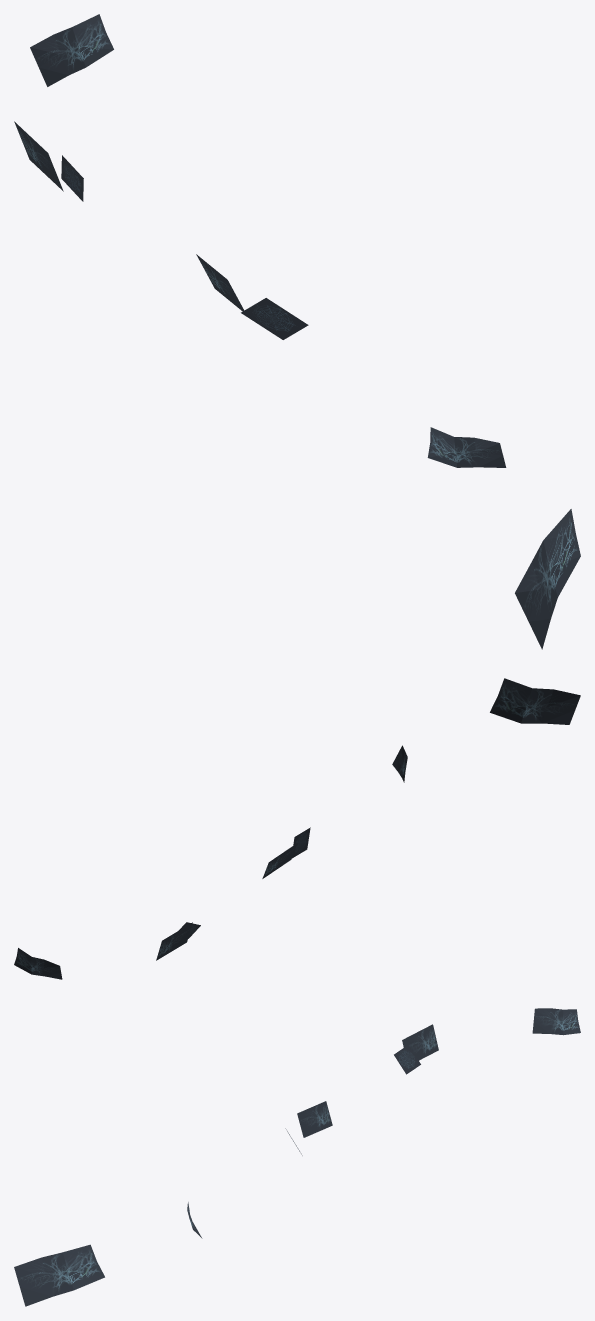
File: Area_12_3.fbx
The picture shows the model from 3 angles, top to bottom: view 1: azimuth 30°, elevation 25°; view 2: azimuth 150°, elevation 25°; view 3: azimuth 330°, elevation 25°; orthographic projection. The views are drawn at different scales.
Visible parts, largest first — view 1: Area_12_3; view 2: Area_12_3; view 3: Area_12_3.
Boxes of the visible parts, bbox=[...] form: Area_12_3: bbox=[14, 14, 580, 649]; Area_12_3: bbox=[14, 678, 580, 979]; Area_12_3: bbox=[14, 1008, 580, 1306].
Bounding box in the file's own units: 2139 × 667 × 8980.
Materials: 1 (1 with a texture image).
